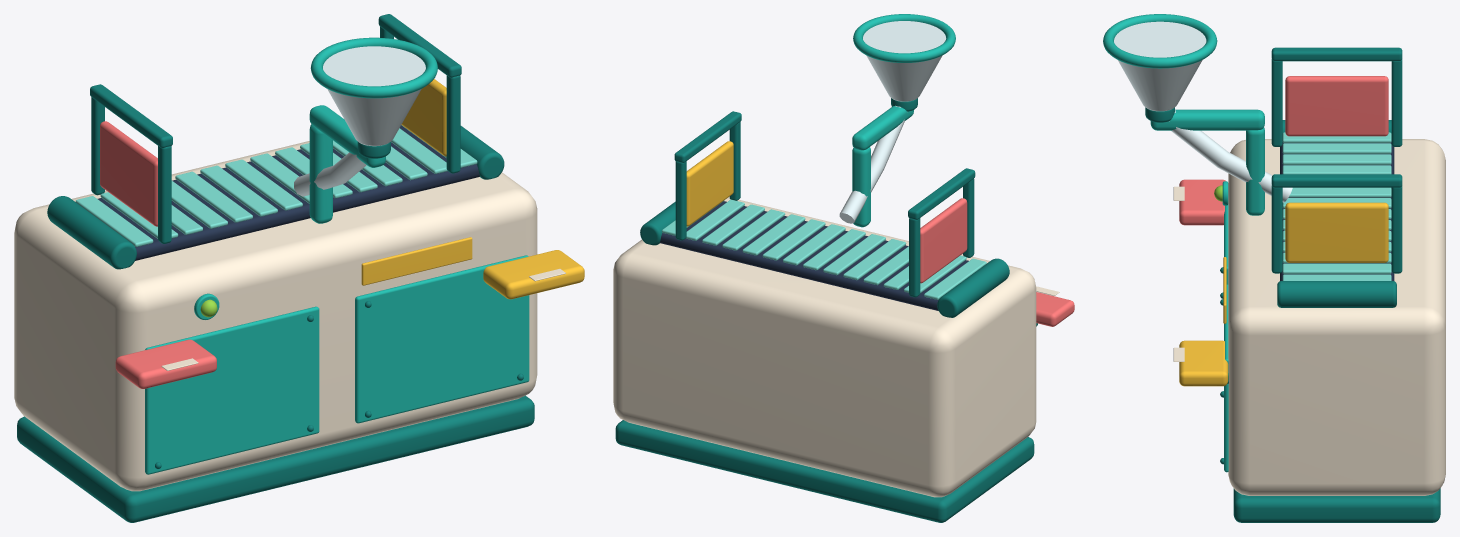
The model's file is Sorter.fbx.
3 views of the same model, side by side, from view 1: azimuth 30°, elevation 25°; view 2: azimuth 150°, elevation 25°; view 3: azimuth 270°, elevation 25° (orthographic). The views are drawn at different scales.
Parts seen in each view (by area): view 1: Sorter mesh; view 2: Sorter mesh; view 3: Sorter mesh.
Part boxes in pixels (box(x1,y1,x2,y2)): Sorter mesh: box(14, 14, 584, 522); Sorter mesh: box(613, 14, 1074, 522); Sorter mesh: box(1103, 14, 1445, 522).
Size of the model in its own units: 1.7 by 1.62 by 1.26.
